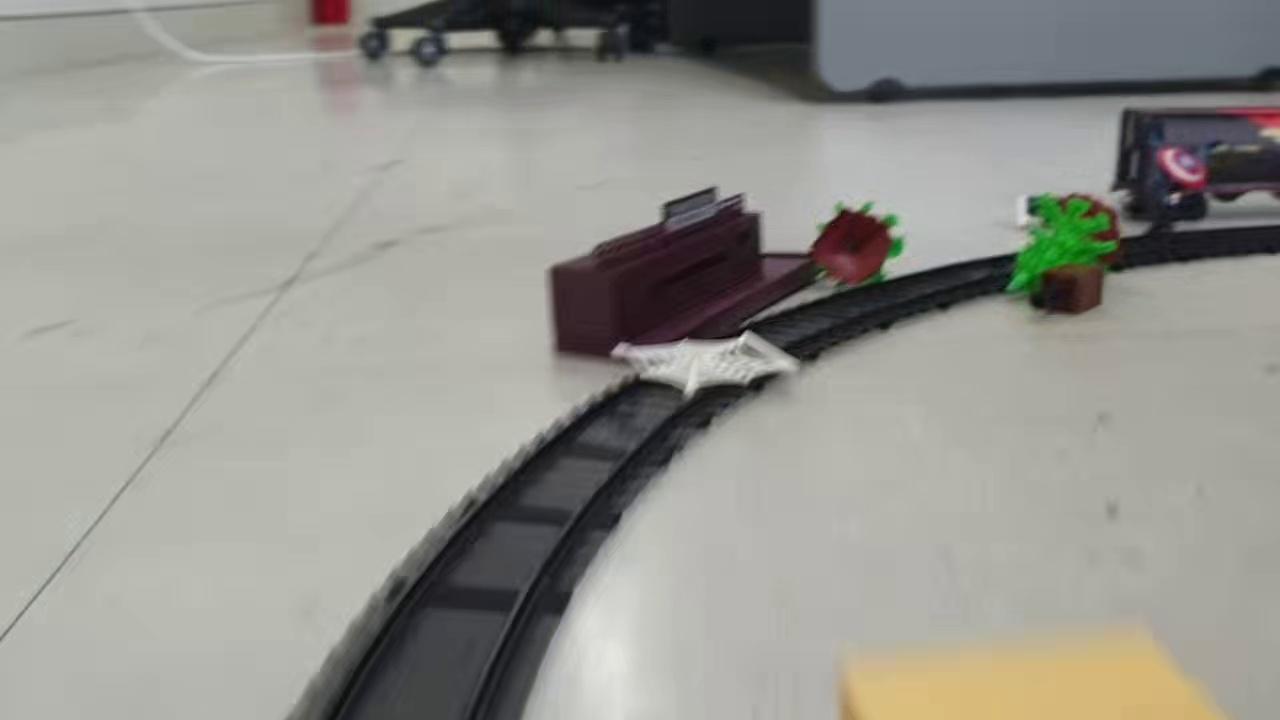box: (1029, 262, 1106, 312)
people: (1122, 129, 1210, 230)
tree: (1003, 190, 1121, 295), (808, 200, 905, 290)
web: (605, 330, 805, 395)
